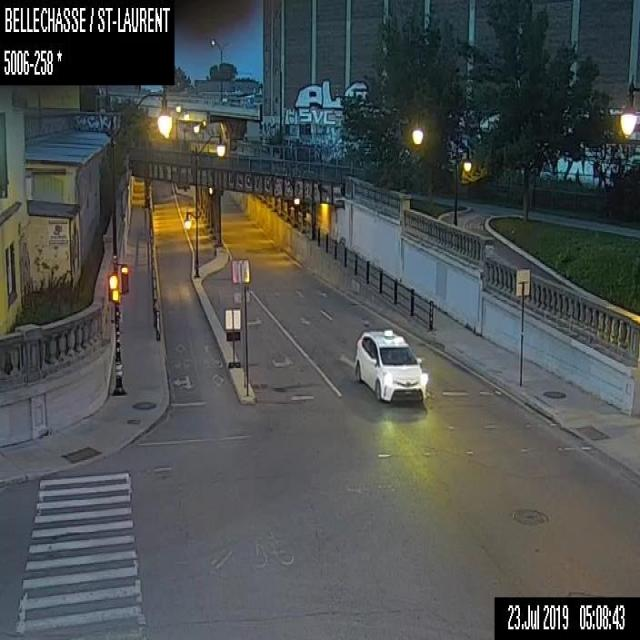vehicle: (354, 328, 426, 406)
